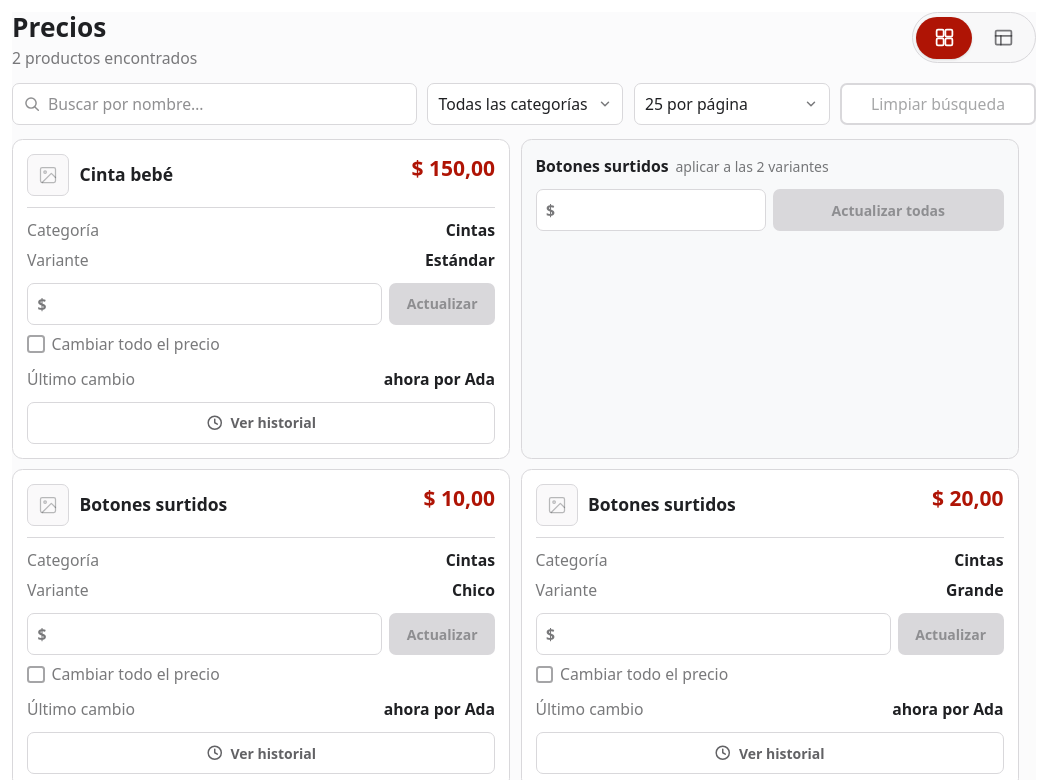
Test case: PricingPage › asks the server to filter by category
The width and height of the screenshot is (1048, 780).
expect the text "Cinta bebé" is shown: met, box [80,164,173,186]
Click the button named "Filtrar por categoría": [525, 104] box [427,83,623,125]
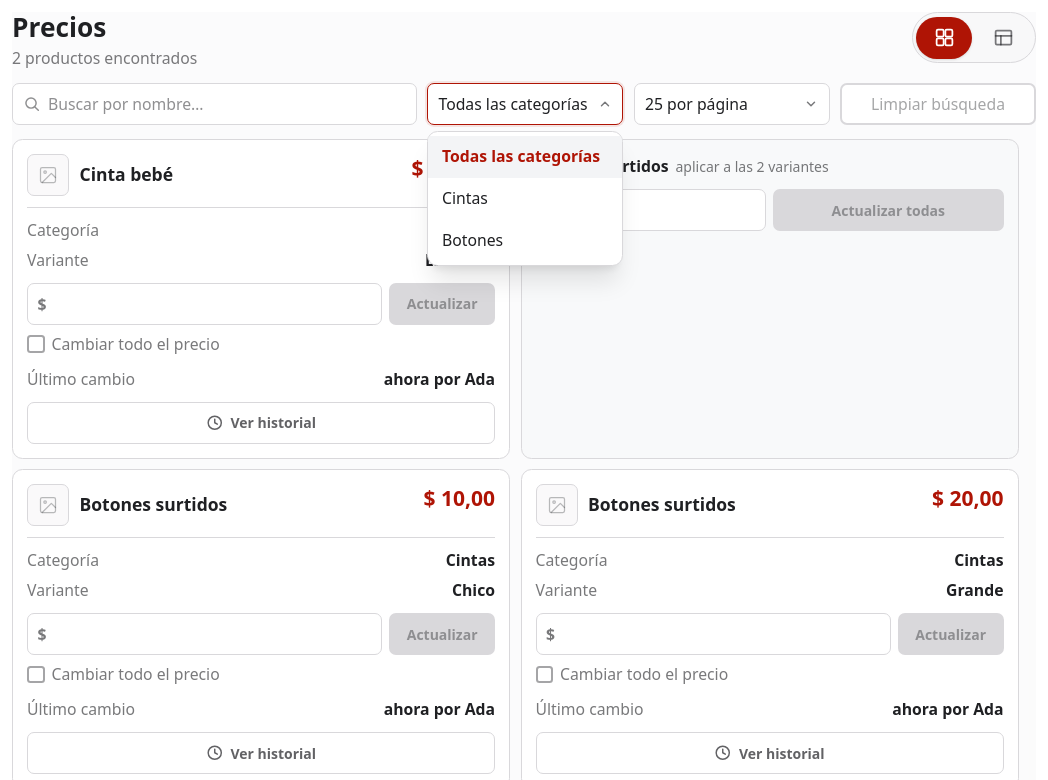
Click the option "Cintas": [525, 198] box [428,178,622,220]
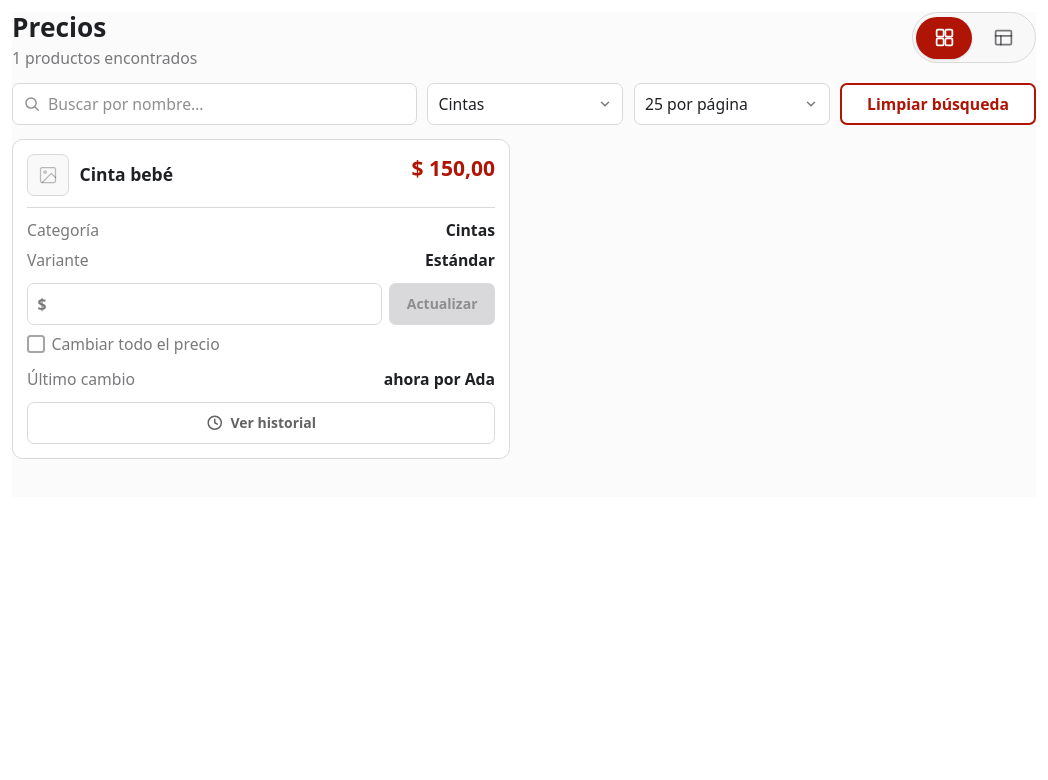
expect the text "Cinta bebé" is shown: met, box [80,164,173,186]
expect the text "Botones surtidos" is gone: met
